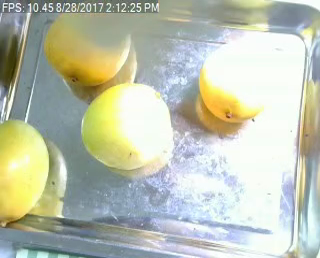Mango: (82, 84, 171, 168), (41, 7, 132, 85), (199, 39, 275, 123), (0, 117, 51, 224)
